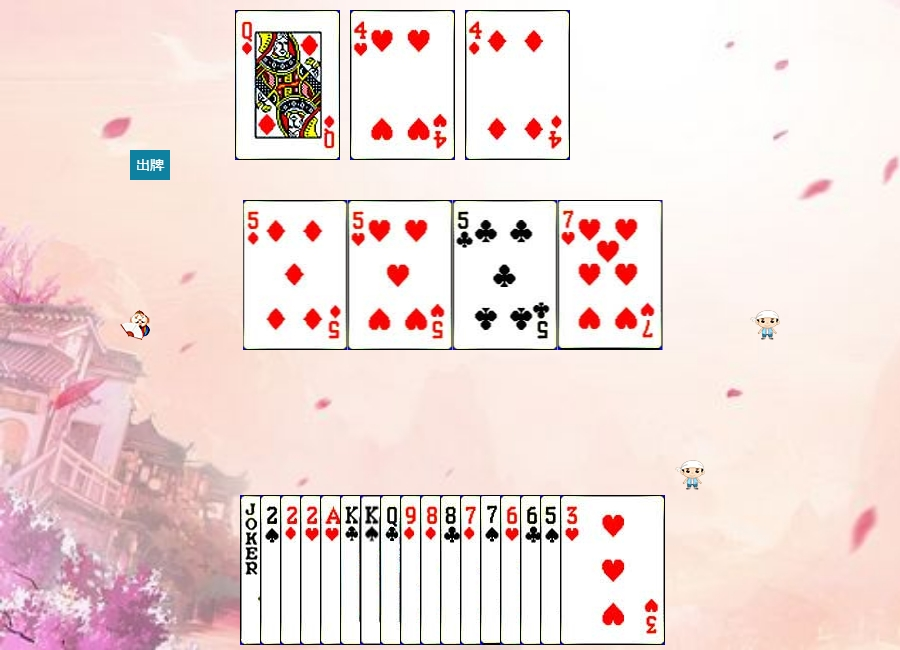12~1: (235, 10, 340, 160)
12~2: (380, 495, 485, 645)
13~2: (340, 495, 445, 645)
13~4: (360, 495, 465, 645)
14~3: (320, 495, 425, 645)
15~1: (280, 495, 385, 645)
15~3: (300, 495, 405, 645)
15~4: (260, 495, 365, 645)
17~3: (240, 495, 345, 645)
3~3: (560, 495, 665, 645)
4~1: (465, 10, 570, 160)
4~3: (350, 10, 455, 160)
5~1: (243, 200, 348, 350)
5~2: (453, 200, 558, 350)
5~3: (348, 200, 453, 350)
5~4: (540, 495, 645, 645)
6~2: (520, 495, 625, 645)
6~3: (500, 495, 605, 645)
7~1: (460, 495, 565, 645)
7~3: (558, 200, 663, 350)
7~4: (480, 495, 585, 645)
8~1: (420, 495, 525, 645)
8~2: (440, 495, 545, 645)
9~1: (400, 495, 505, 645)
